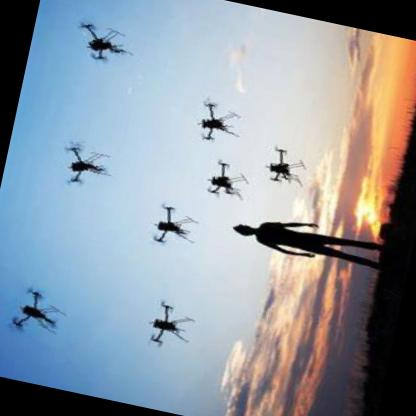plane: (0, 280, 78, 347), (134, 289, 207, 357), (50, 132, 126, 197), (186, 91, 258, 151), (71, 11, 144, 70), (139, 193, 210, 253), (196, 152, 261, 204), (261, 140, 314, 191)
